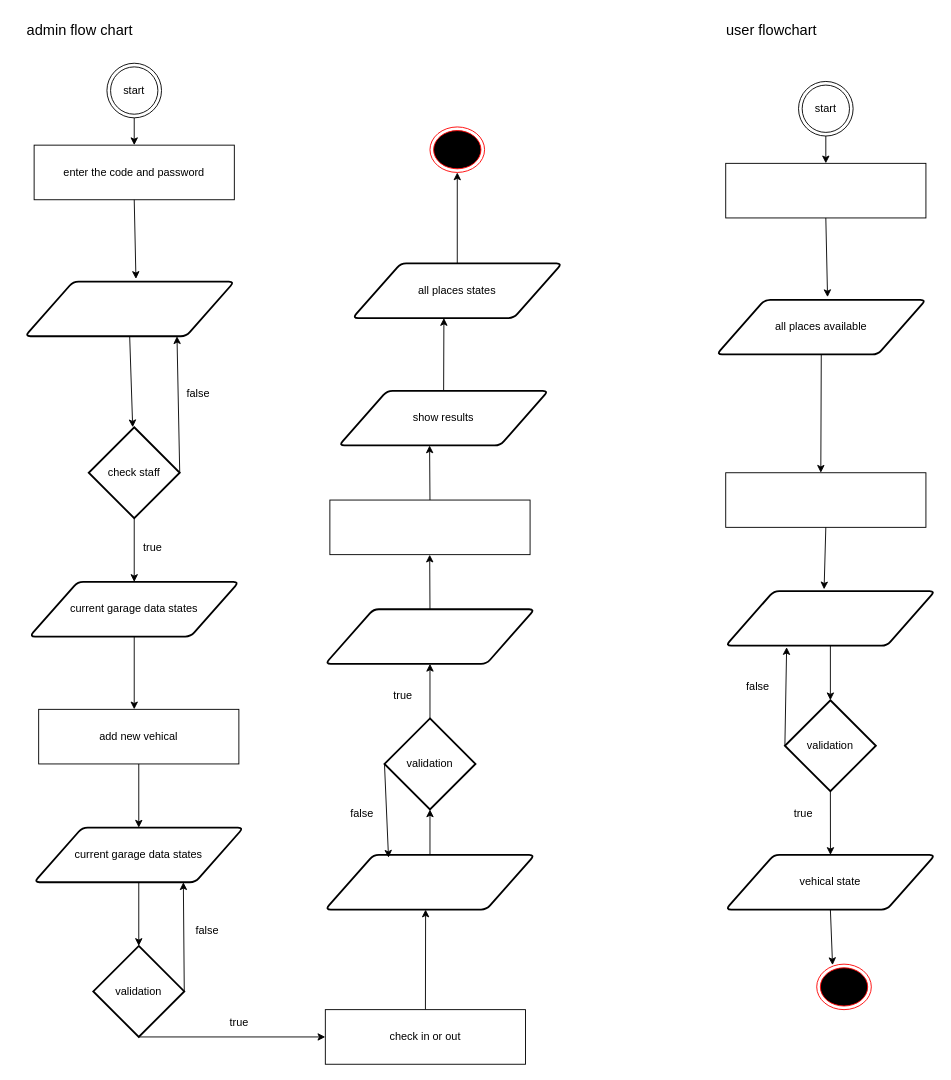
The diagram is 951 pixels wide and 1080 high, and some of its shapes have lost their labels. The centre of each missing label's shape, as x and y in pixels:
book place: the point at 825,499
check available places: the point at 825,190
code and password: the point at 129,308
plate number: the point at 429,882
search in database: the point at 429,527
show statstics: the point at 429,636
vehical data: the point at 829,618
